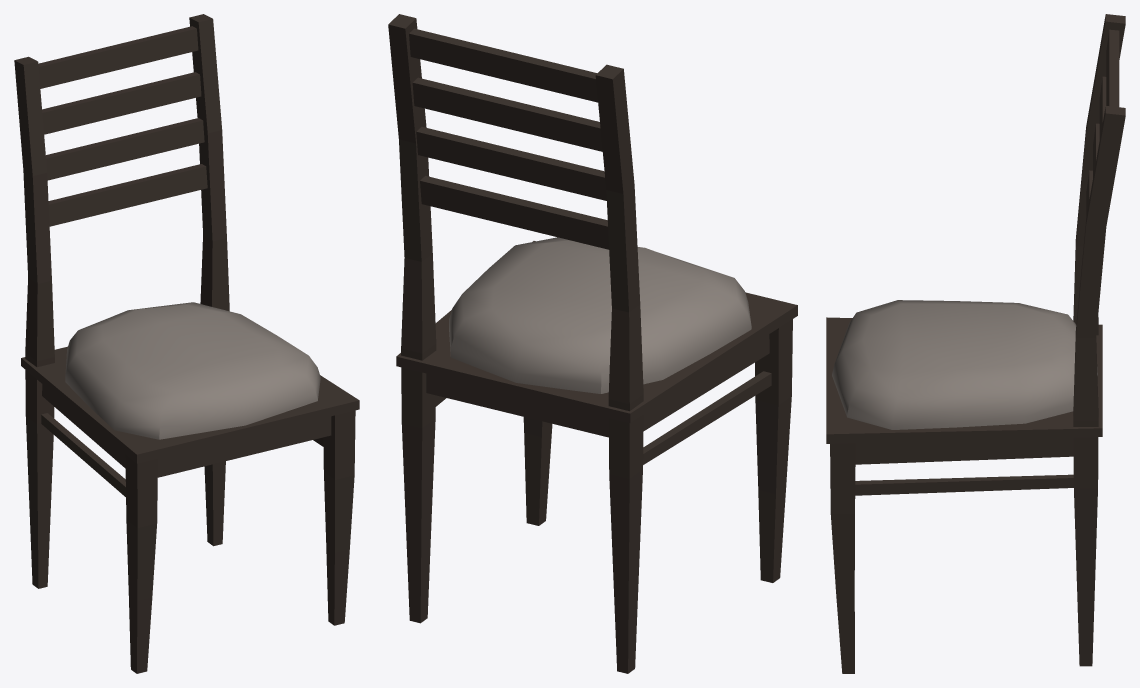
File: Chair_2.glb
3 views of the same model, side by side, from view 1: azimuth 30°, elevation 25°; view 2: azimuth 150°, elevation 25°; view 3: azimuth 270°, elevation 25° (orthographic). The views are drawn at different scales.
Parts seen in each view (by area): view 1: Chair_2; view 2: Chair_2; view 3: Chair_2.
Part boxes in pixels (x1,y1,x2,y2): Chair_2: [14, 14, 359, 673]; Chair_2: [388, 14, 797, 673]; Chair_2: [826, 14, 1125, 673].
Size of the model in its own units: 0.3725 by 0.8261 by 0.4036.
Materials: 2 (2 with a texture image).
